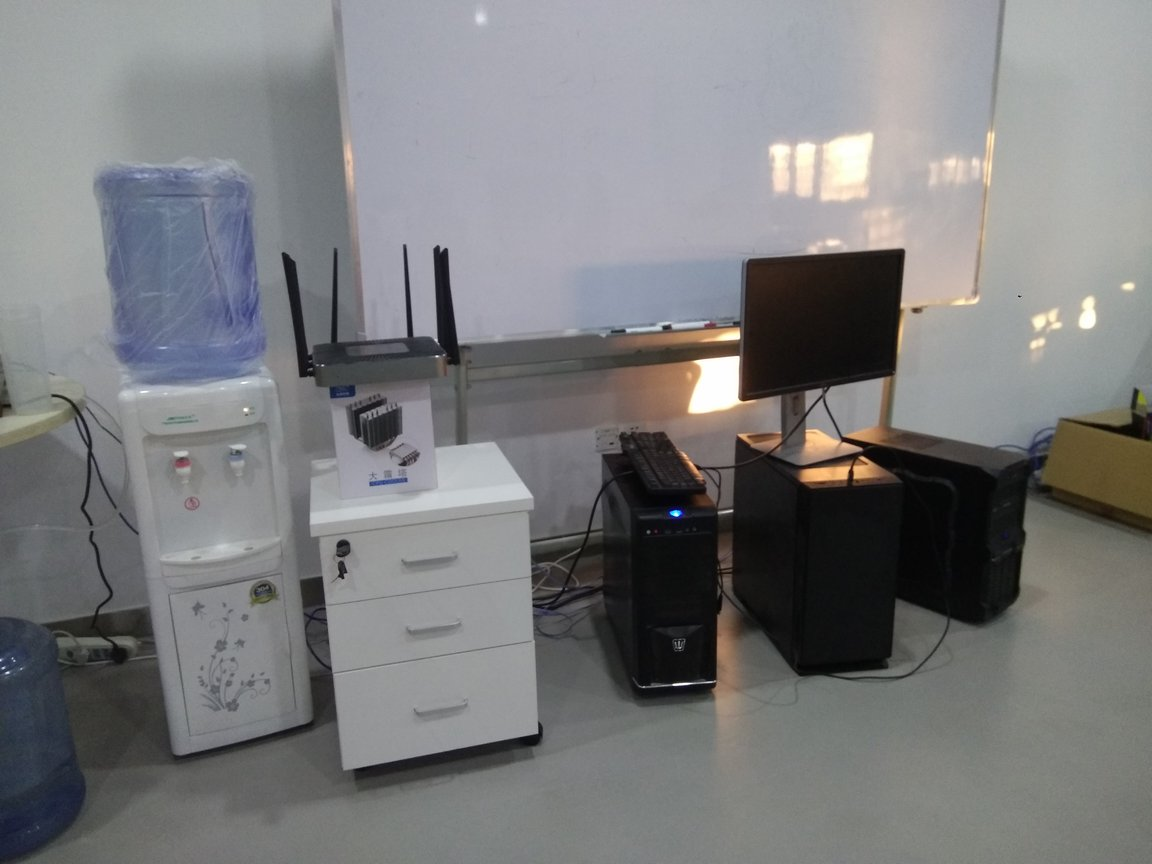computer: (737, 423, 903, 677), (853, 424, 1036, 628), (603, 453, 731, 699)
drawer chest: (315, 441, 552, 762)
monitor: (738, 243, 911, 468)
scuttlebutt: (90, 160, 276, 387), (1, 606, 103, 858)
water dispenser: (113, 364, 317, 755)
